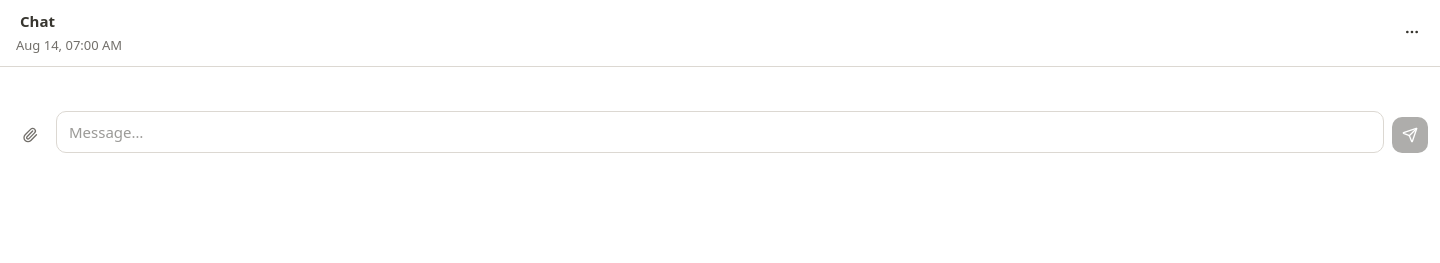
Test: a failed turn does not invalidate them
Step 1. Type "rewrite the intro" into the text box with placeholder "Message…" → (720, 132), box [56,110,1384,152]
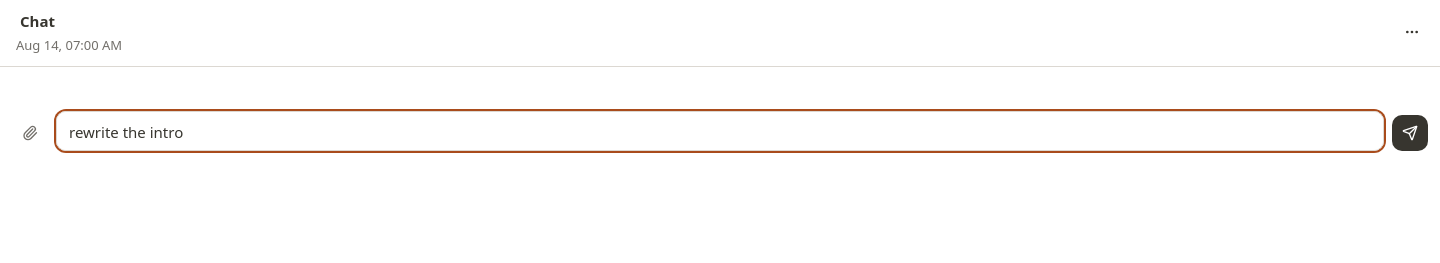
Step 2. Press Enter in the text box with placeholder "Message…", box [56,110,1384,150]
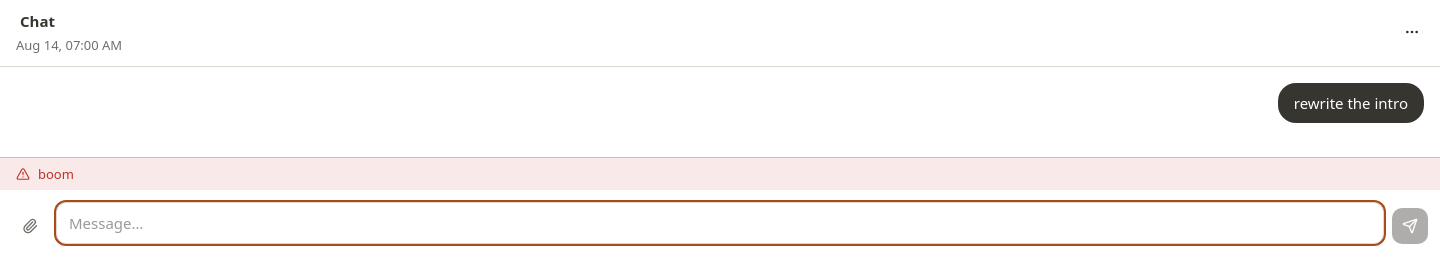
Check: the text "boom" is shown, box [0,157,1439,190]
